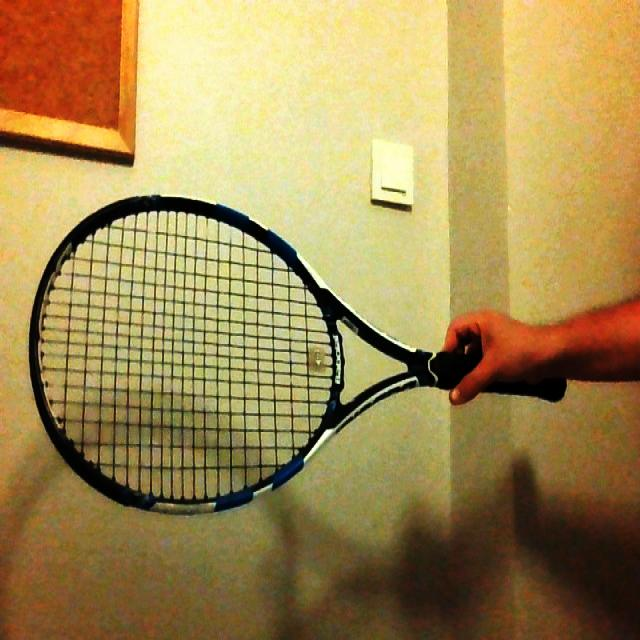TennisRacket: (29, 194, 565, 516)
